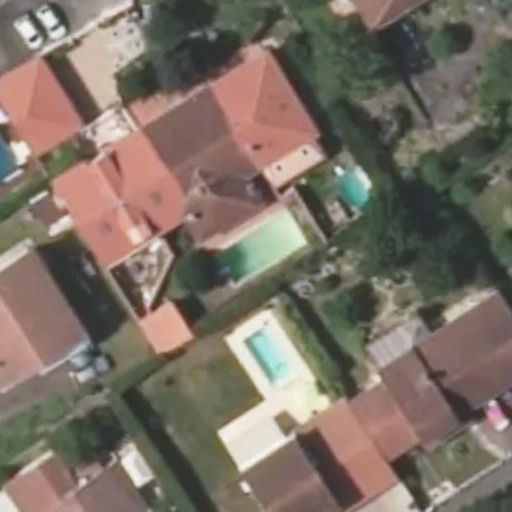pool: (210, 210, 310, 289), (241, 326, 301, 388), (332, 165, 374, 212)
